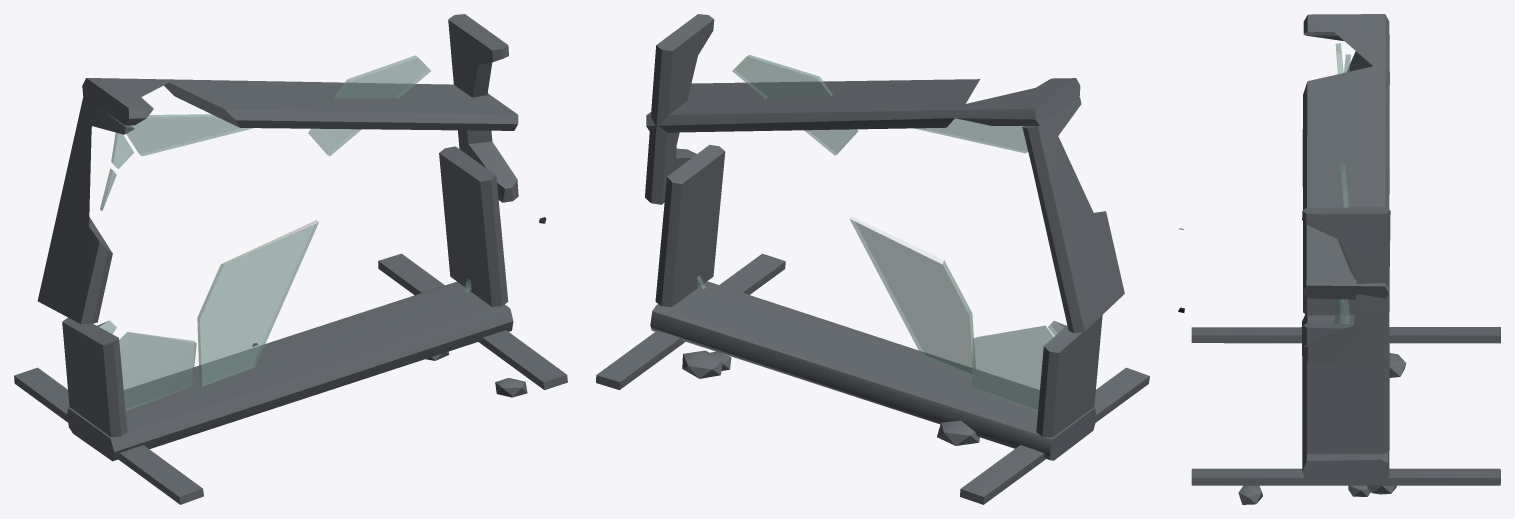
The model's file is vta_deb_cleanroom_panel_c.glb.
The picture shows the model from 3 angles, left to right: view 1: azimuth 30°, elevation 25°; view 2: azimuth 150°, elevation 25°; view 3: azimuth 270°, elevation 25°; orthographic projection. The views are drawn at different scales.
Visible parts, largest first — view 1: husk, frag_01, frag_02; view 2: husk, frag_01, frag_02; view 3: husk, frag_01, frag_02.
Part boxes in pixels (x1,y1,x2,y2): husk: (14,146,567,504); frag_01: (37,78,518,324); frag_02: (308,14,518,202); husk: (596,144,1149,504); frag_01: (646,78,1124,333); frag_02: (645,14,858,204); husk: (1178,228,1500,504); frag_01: (1302,14,1389,299); frag_02: (1302,164,1390,364).
Bounding box in the file's own units: 1.1 × 0.8454 × 0.7483.
